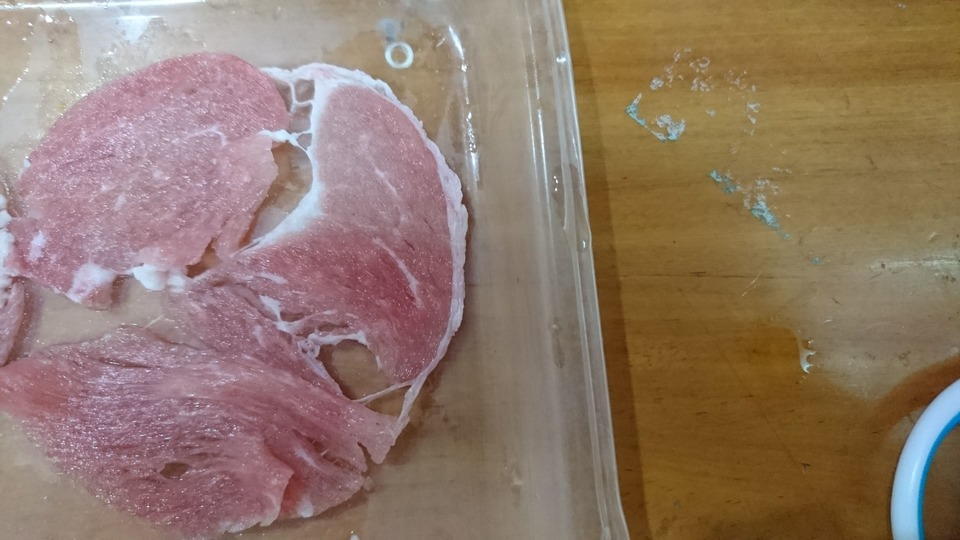restructured meat: (9, 47, 473, 517)
